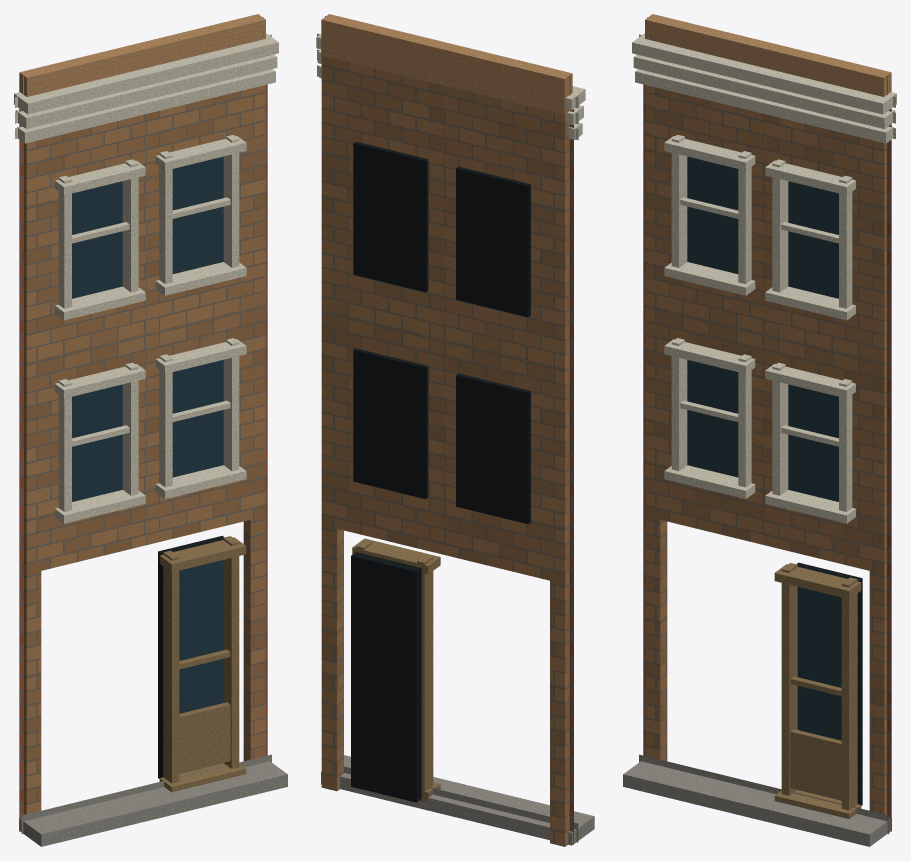
File: VICT31_lod2.glb
3 renders of one model, left to right at view 1: azimuth 30°, elevation 25°; view 2: azimuth 150°, elevation 25°; view 3: azimuth 330°, elevation 25°, orthographic.
Visible parts, largest first — view 1: VICT31_FRONT_LOD2; view 2: VICT31_FRONT_LOD2; view 3: VICT31_FRONT_LOD2.
Part boxes in pixels (<box>): VICT31_FRONT_LOD2: <box>14,14,287,846</box>; VICT31_FRONT_LOD2: <box>316,14,594,846</box>; VICT31_FRONT_LOD2: <box>623,14,896,846</box>.
Size of the model in its own units: 3.44 by 9.66 by 0.68.
Materials: 9 (7 with a texture image).
